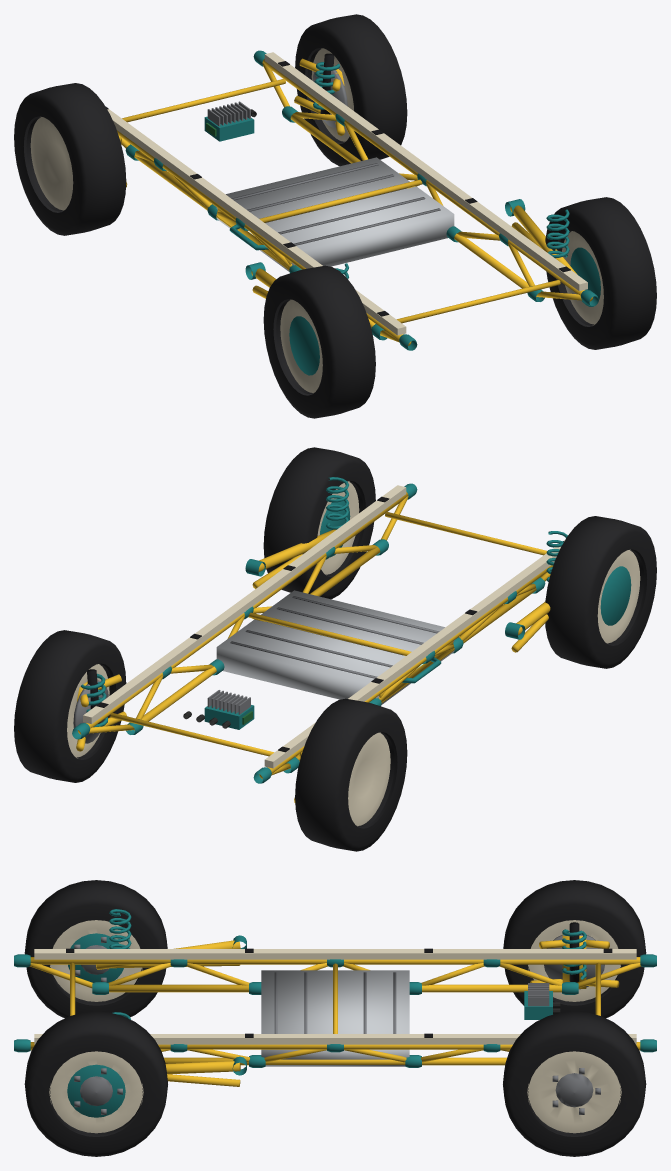
File: solana_m20.glb
3 views of the same model, one above another, from view 1: azimuth 30°, elevation 25°; view 2: azimuth 150°, elevation 25°; view 3: azimuth 270°, elevation 25° (orthographic). The views are drawn at different scales.
Visible parts, largest first — view 1: cassette, wheel_FL, wheel_BL, wheel_BR, wheel_FR, truss_R, mount_rail_R, mount_rail_L, truss_L, corner_BR, corner_FR, controller (+6 smaller); view 2: cassette, wheel_FL, wheel_BL, wheel_FR, wheel_BR, truss_R, mount_rail_R, mount_rail_L, truss_L, corner_BR, controller, corner_FR (+5 smaller); view 3: wheel_FR, wheel_BR, wheel_BL, cassette, wheel_FL, truss_L, mount_rail_L, truss_R, mount_rail_R, corner_FL, corner_BR, wheel_BR_motor (+3 smaller).
Boxes of the visible parts, left/top/right/bottom form: cassette: left=216, top=157, right=454, bottom=271; wheel_FL: left=14, top=83, right=126, bottom=235; wheel_BL: left=263, top=265, right=375, bottom=418; wheel_BR: left=545, top=197, right=656, bottom=349; wheel_FR: left=295, top=14, right=407, bottom=166; truss_R: left=253, top=50, right=598, bottom=306; mount_rail_R: left=264, top=52, right=587, bottom=291; mount_rail_L: left=105, top=106, right=406, bottom=335; truss_L: left=117, top=130, right=417, bottom=350; corner_BR: left=505, top=199, right=577, bottom=274; corner_FR: left=294, top=53, right=347, bottom=135; controller: left=204, top=101, right=256, bottom=141; cassette: left=216, top=590, right=454, bottom=704; wheel_FL: left=295, top=698, right=407, bottom=851; wheel_BL: left=545, top=516, right=656, bottom=668; wheel_FR: left=14, top=630, right=126, bottom=782; wheel_BR: left=263, top=447, right=375, bottom=599; truss_R: left=72, top=483, right=417, bottom=739; mount_rail_R: left=83, top=485, right=406, bottom=724; mount_rail_L: left=264, top=540, right=564, bottom=768; truss_L: left=253, top=565, right=552, bottom=783; corner_BR: left=245, top=477, right=349, bottom=588; controller: left=183, top=690, right=254, bottom=729; corner_FR: left=73, top=669, right=126, bottom=751; wheel_FR: left=503, top=1011, right=646, bottom=1156; wheel_BR: left=24, top=1011, right=167, bottom=1156; wheel_BL: left=24, top=880, right=167, bottom=1018; cassette: left=261, top=970, right=409, bottom=1066; wheel_FL: left=503, top=880, right=646, bottom=1018; truss_L: left=14, top=954, right=656, bottom=994; mount_rail_L: left=34, top=948, right=636, bottom=959; truss_R: left=14, top=1039, right=656, bottom=1067; mount_rail_R: left=34, top=1033, right=636, bottom=1044; corner_FL: left=530, top=922, right=619, bottom=989; corner_BR: left=112, top=1012, right=246, bottom=1086; wheel_BR_motor: left=67, top=1064, right=125, bottom=1117.
Bounding box in the file's own units: 1.5 × 0.6 × 2.69.
